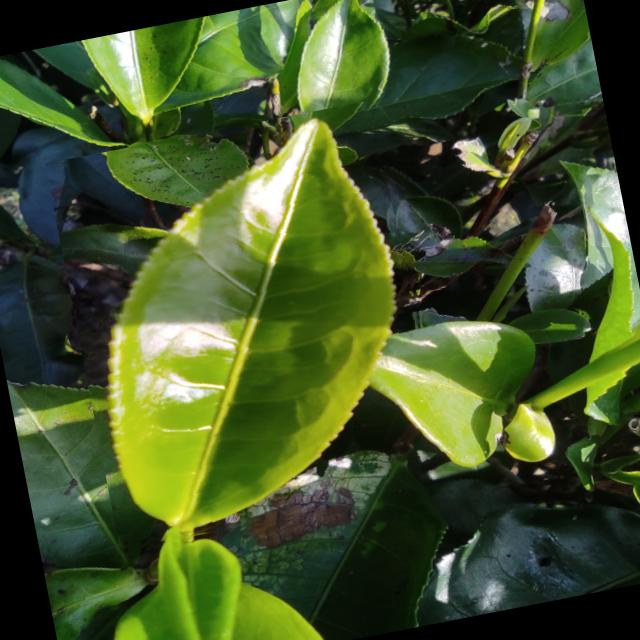Category B(2-4 days): (44, 98, 458, 556)
